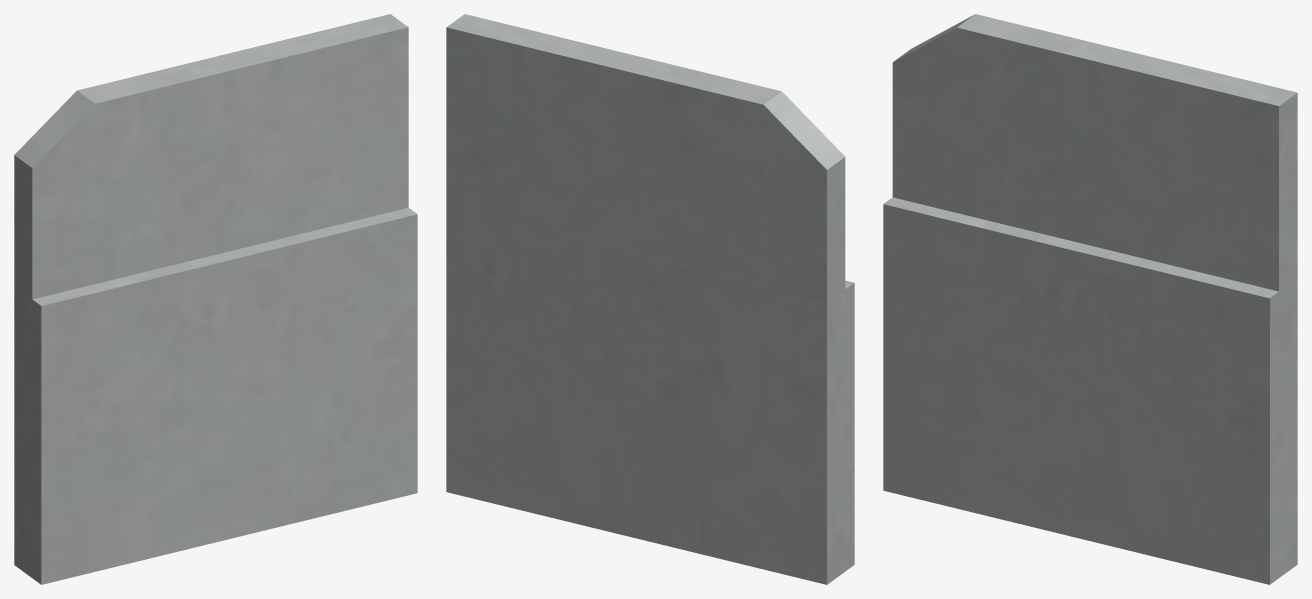
Rendered from componente.obj.
3 renders of one model, left to right at view 1: azimuth 30°, elevation 25°; view 2: azimuth 150°, elevation 25°; view 3: azimuth 330°, elevation 25°, orthographic. The views are drawn at different scales.
Parts seen in each view (by area): view 1: entity0_brush0, entity0_brush1; view 2: entity0_brush0, entity0_brush1; view 3: entity0_brush0, entity0_brush1.
Boxes of the visible parts, x1,y1,x2,y2 form: entity0_brush0: (14, 207, 417, 584); entity0_brush1: (14, 14, 408, 299); entity0_brush0: (446, 210, 854, 584); entity0_brush1: (446, 14, 845, 302); entity0_brush0: (883, 197, 1297, 584); entity0_brush1: (892, 14, 1297, 291).
Bounding box in the file's own units: 96 × 112 × 12.
